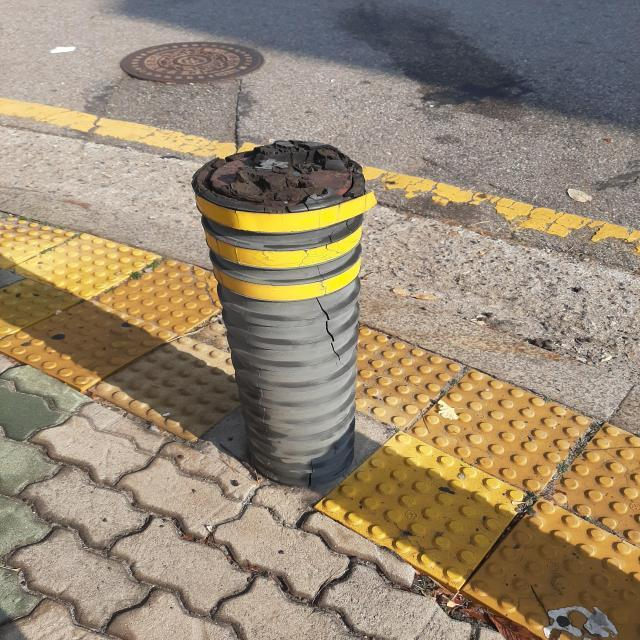pole: (189, 132, 375, 486)
